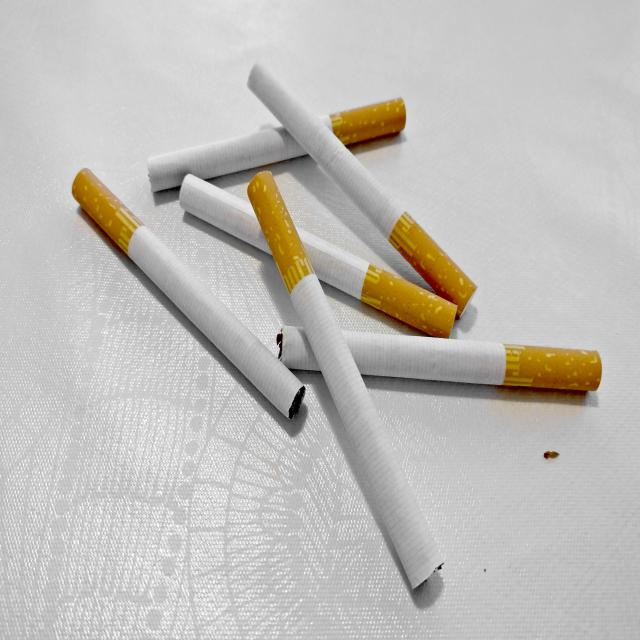cigarette: (247, 171, 445, 593), (71, 169, 306, 421), (247, 65, 477, 320), (297, 228, 458, 338), (341, 331, 602, 391), (146, 127, 308, 193), (179, 174, 272, 255), (323, 98, 406, 148)
